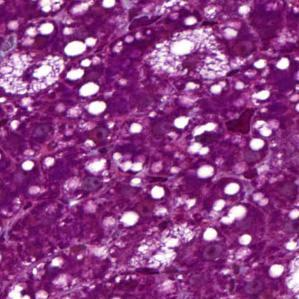ballooning: (149, 27, 230, 84), (4, 49, 66, 96)
